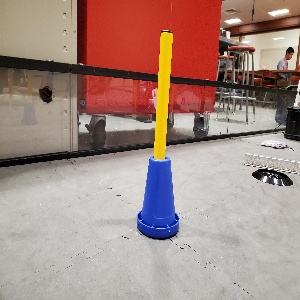Blue_1: (137, 154, 179, 239)
